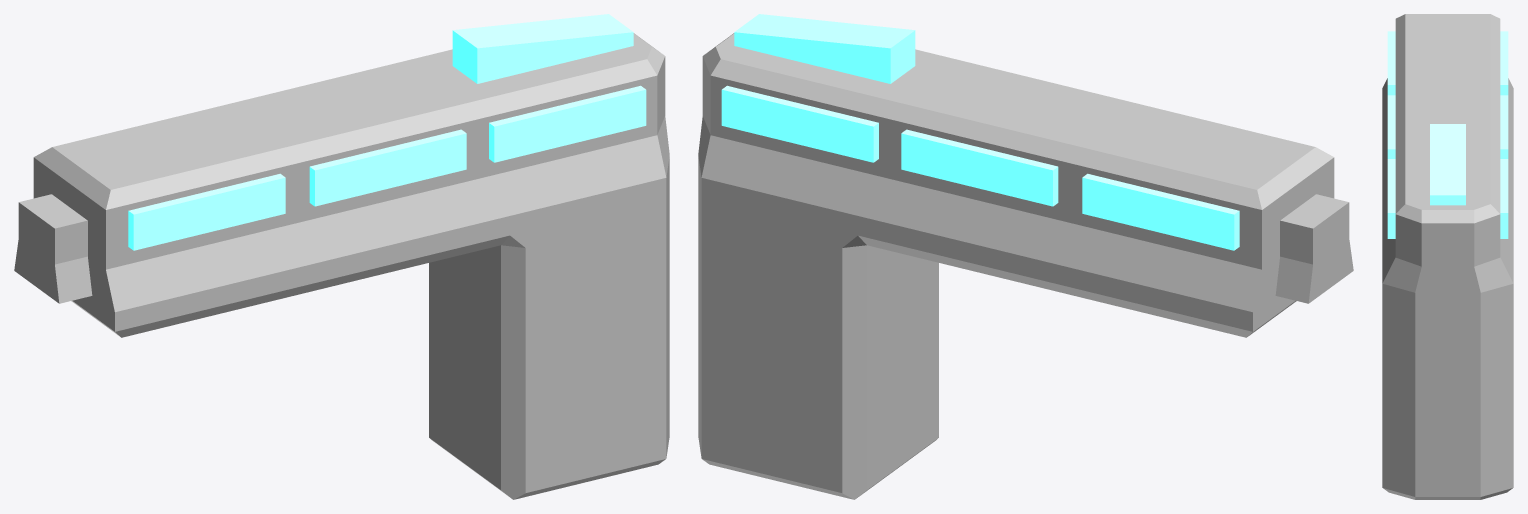
The model's file is gun.glb.
3 views of the same model, side by side, from view 1: azimuth 30°, elevation 25°; view 2: azimuth 150°, elevation 25°; view 3: azimuth 270°, elevation 25° (orthographic). The views are drawn at different scales.
Parts seen in each view (by area): view 1: Cube, Cube.001, Cube.004, Cube.003, Cube.002; view 2: Cube, Cube.001, Cube.004, Cube.003, Cube.002; view 3: Cube, Cube.001, Cube.003, Cube.004, Cube.002.
Part boxes in pixels (bbox=[...]): Cube: bbox=[14, 33, 669, 499]; Cube.001: bbox=[452, 14, 633, 83]; Cube.004: bbox=[128, 173, 285, 250]; Cube.003: bbox=[489, 85, 646, 162]; Cube.002: bbox=[309, 129, 466, 206]; Cube: bbox=[698, 33, 1353, 499]; Cube.001: bbox=[734, 14, 915, 83]; Cube.004: bbox=[1082, 173, 1239, 250]; Cube.003: bbox=[721, 85, 878, 162]; Cube.002: bbox=[901, 129, 1058, 206]; Cube: bbox=[1382, 14, 1513, 499]; Cube.001: bbox=[1430, 124, 1465, 205]; Cube.003: bbox=[1387, 159, 1508, 238]; Cube.004: bbox=[1387, 31, 1508, 95]; Cube.002: bbox=[1387, 95, 1508, 158].
Size of the model in its own units: 0.7809 by 0.5292 by 0.2.
